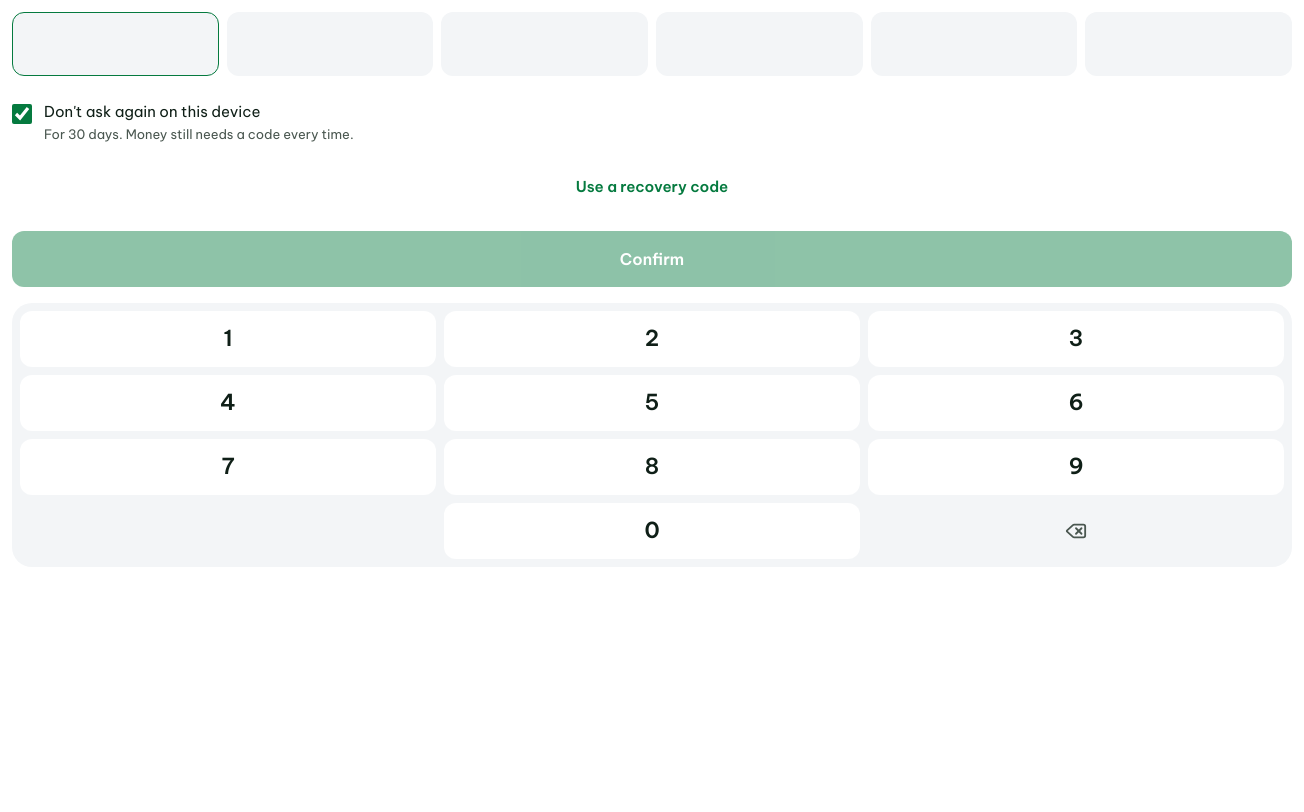
Test: MfaForm › can go back to the authenticator code from the recovery code
Click the button "Use a recovery code" at (652, 187), box [568,168,736,206]
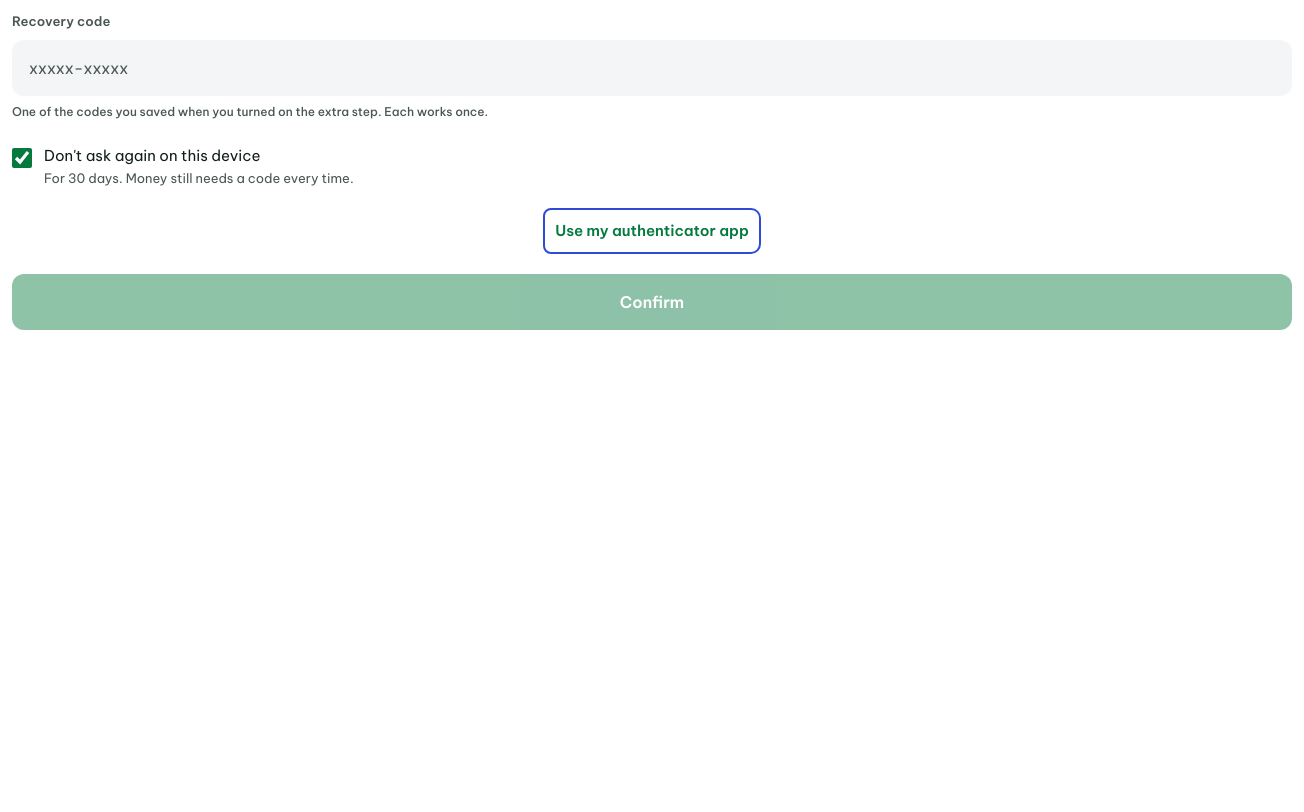
Click the button "Use my authenticator app" at (652, 231), box [547,212,757,250]
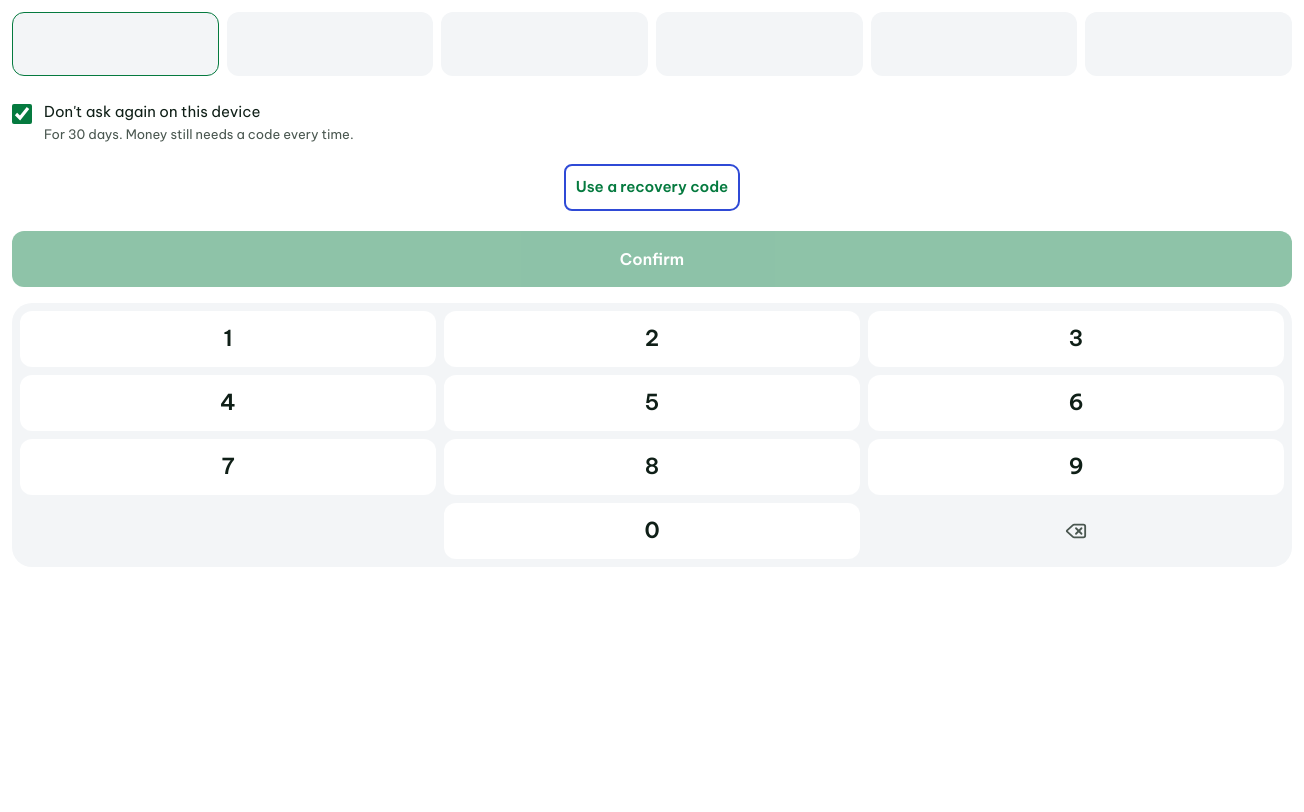
Expected: the 1st element named "Authenticator code" is shown, [12,12,1292,76]
